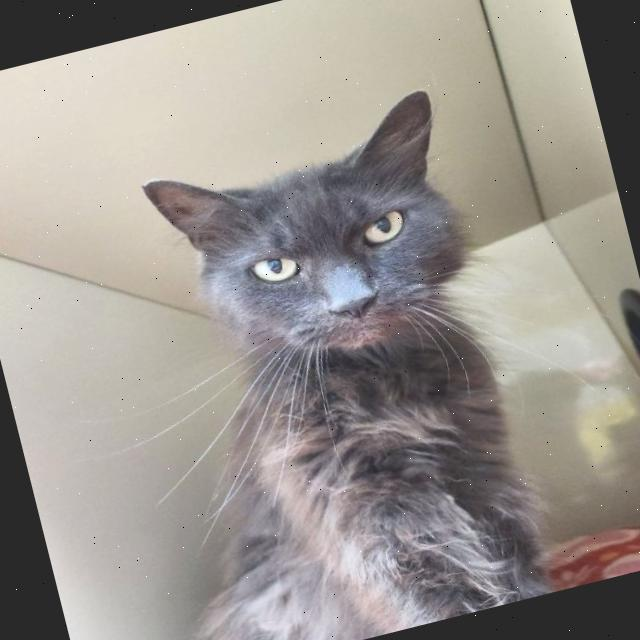domestic_long_hair_cat: (114, 56, 542, 484)
